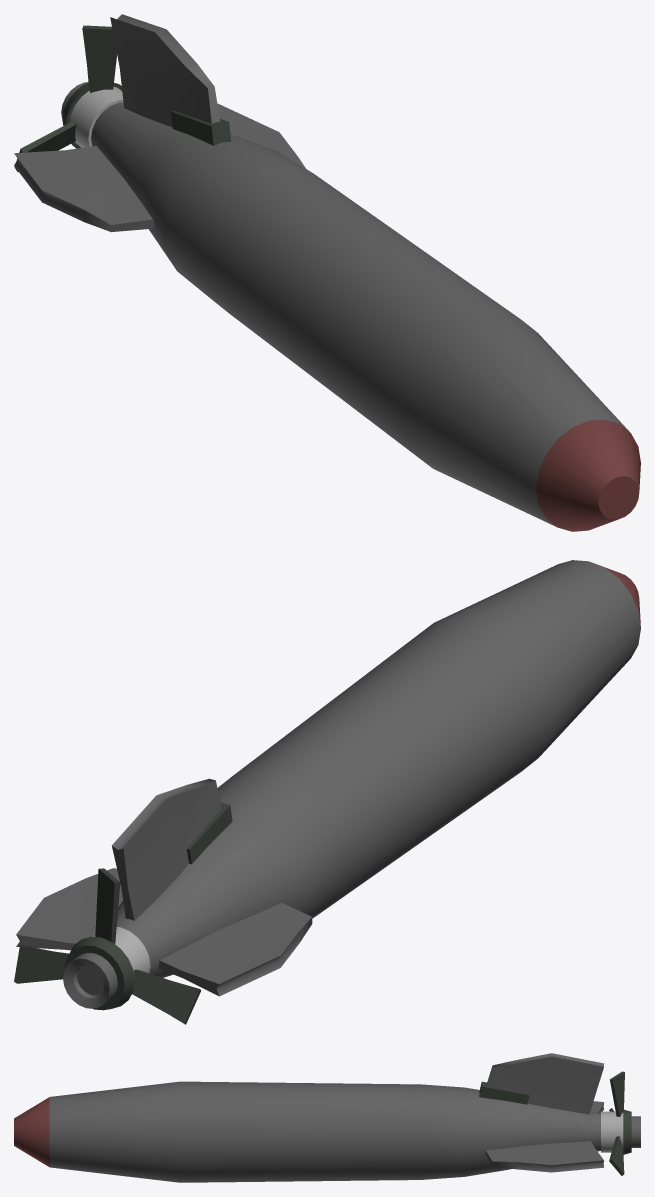
Rendered from Torpedo V2.fbx.
3 views of the same model, one above another, from view 1: azimuth 30°, elevation 25°; view 2: azimuth 150°, elevation 25°; view 3: azimuth 270°, elevation 25° (orthographic). The views are drawn at different scales.
Parts seen in each view (by area): view 1: pCylinder1, pCube1, pCube2, pCube4, pCube3, pCylinder2, pCube8, pCube6; view 2: pCylinder1, pCube1, pCube2, pCube3, pCylinder4, pCube6, pCylinder3, pCube7, pCube4, pCube8, pCylinder2; view 3: pCylinder1, pCube1, pCube3, pCylinder2, pCube8, pCube4, pCube7, pCylinder3, pCylinder4.
Part boxes in pixels (box(x1,y1,x2,y2)): pCylinder1: box(91, 102, 640, 531); pCube1: box(110, 14, 220, 126); pCube2: box(14, 146, 154, 232); pCube4: box(82, 25, 116, 92); pCube3: box(217, 103, 305, 168); pCylinder2: box(69, 87, 123, 147); pCube8: box(171, 111, 231, 145); pCube6: box(14, 120, 76, 171); pCylinder1: box(116, 560, 640, 977); pCube1: box(111, 778, 221, 920); pCube2: box(158, 903, 312, 996); pCube3: box(16, 868, 122, 950); pCylinder4: box(63, 952, 117, 1008); pCube6: box(132, 969, 201, 1024); pCylinder3: box(64, 936, 134, 1010); pCube7: box(14, 945, 68, 983); pCube4: box(95, 868, 120, 944); pCube8: box(186, 802, 232, 864); pCylinder2: box(92, 927, 150, 973); pCylinder1: box(14, 1081, 600, 1182); pCube1: box(487, 1053, 604, 1114); pCube3: box(485, 1141, 603, 1172); pCylinder2: box(601, 1111, 623, 1152); pCube8: box(479, 1081, 529, 1104); pCube4: box(610, 1071, 624, 1116); pCube7: box(609, 1136, 624, 1175); pCylinder3: box(623, 1109, 631, 1154); pCylinder4: box(631, 1116, 640, 1147).
Size of the model in its own units: 0.015 by 0.0127 by 0.0584.
